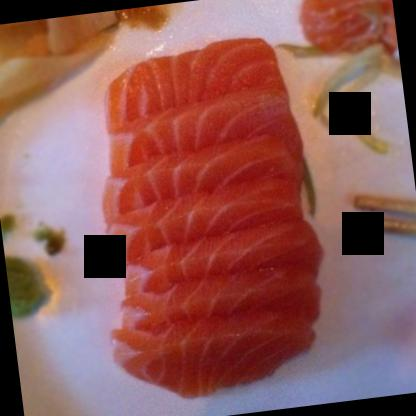salmon: (82, 36, 330, 402)
